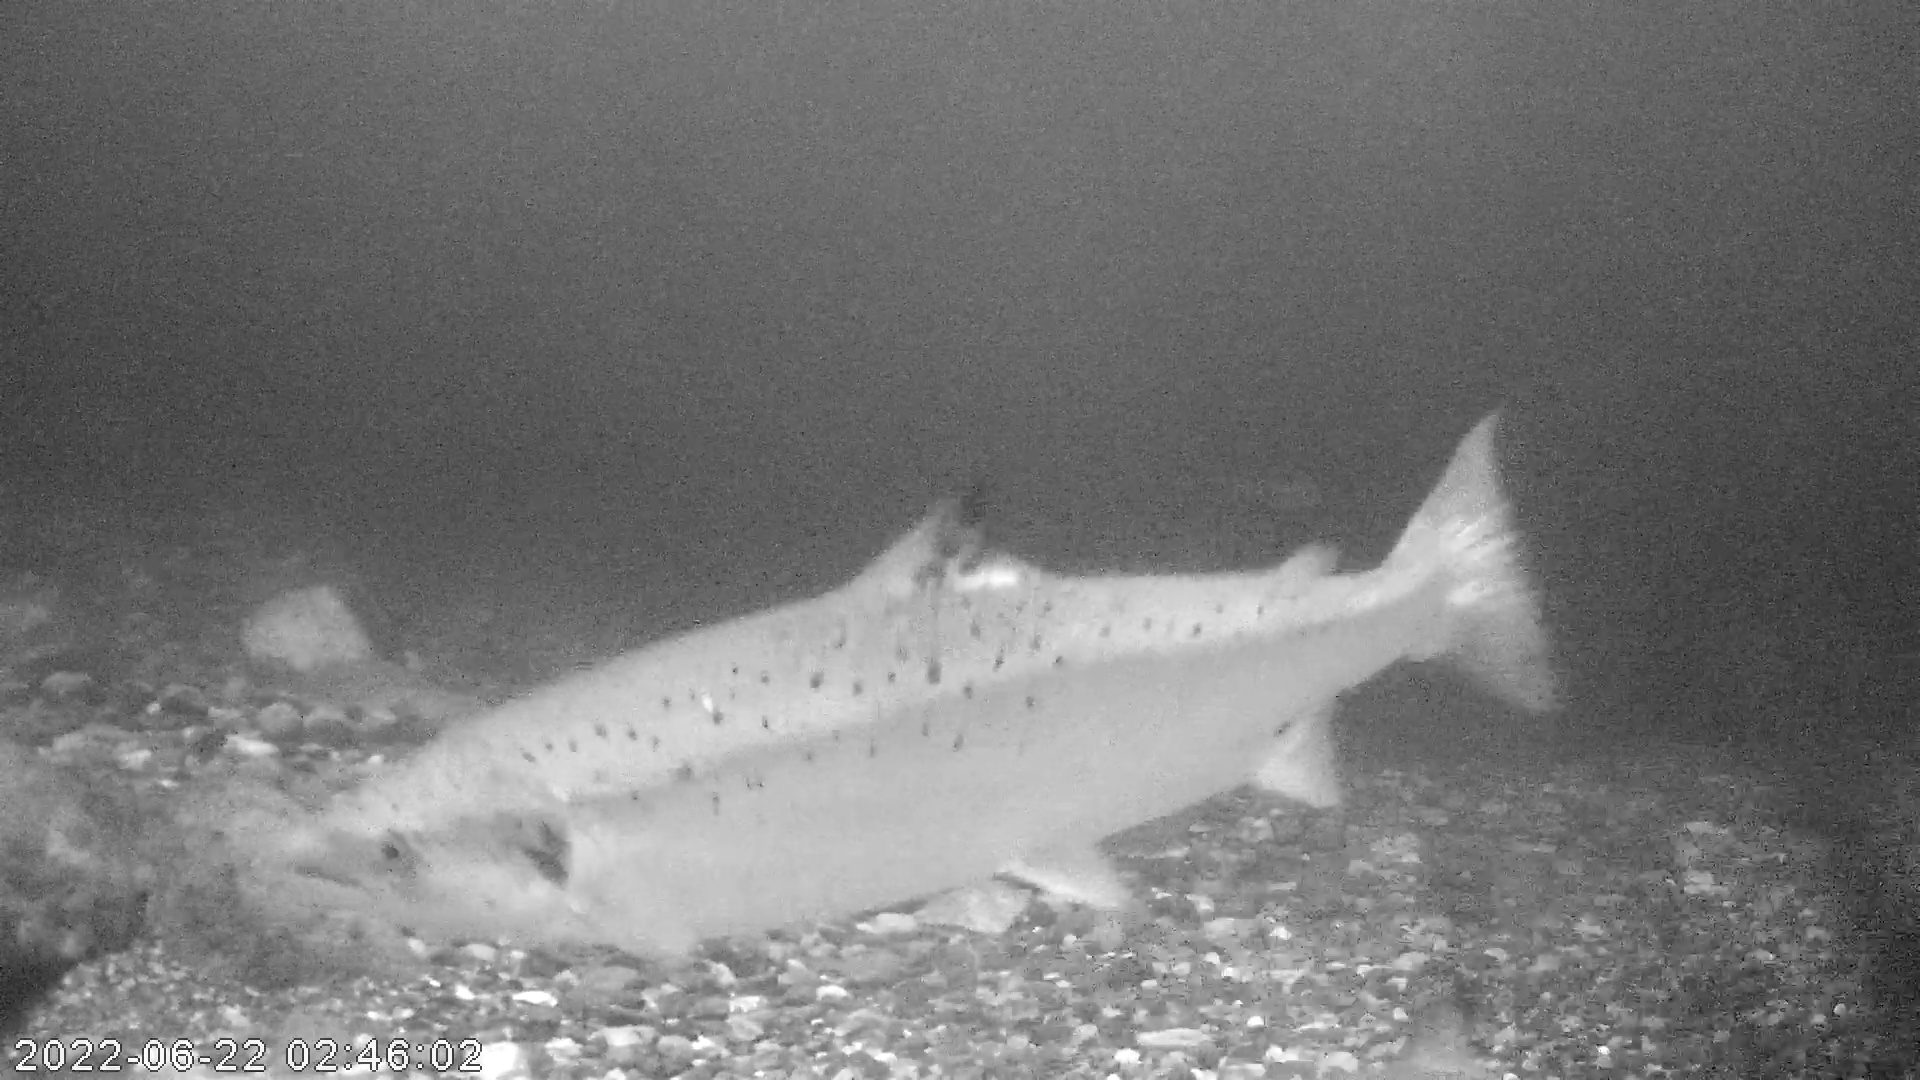salmon: (266, 401, 1576, 968)
